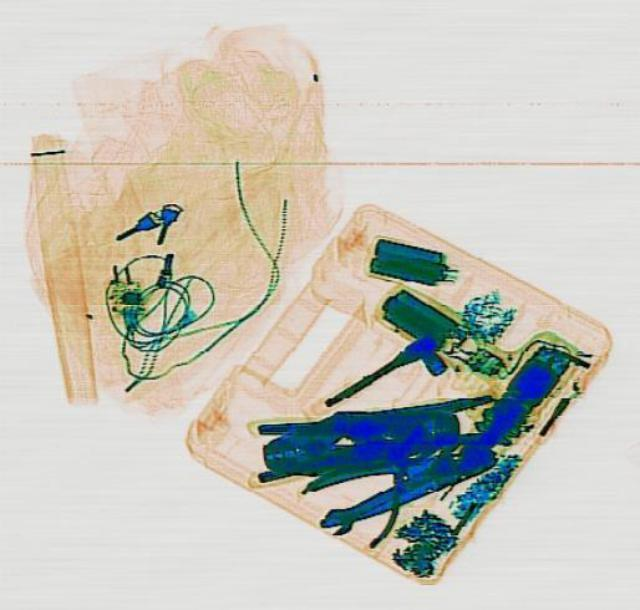Pliers: (293, 415, 502, 530), (243, 384, 463, 485), (256, 401, 430, 478)
Wrench: (314, 477, 412, 534)
